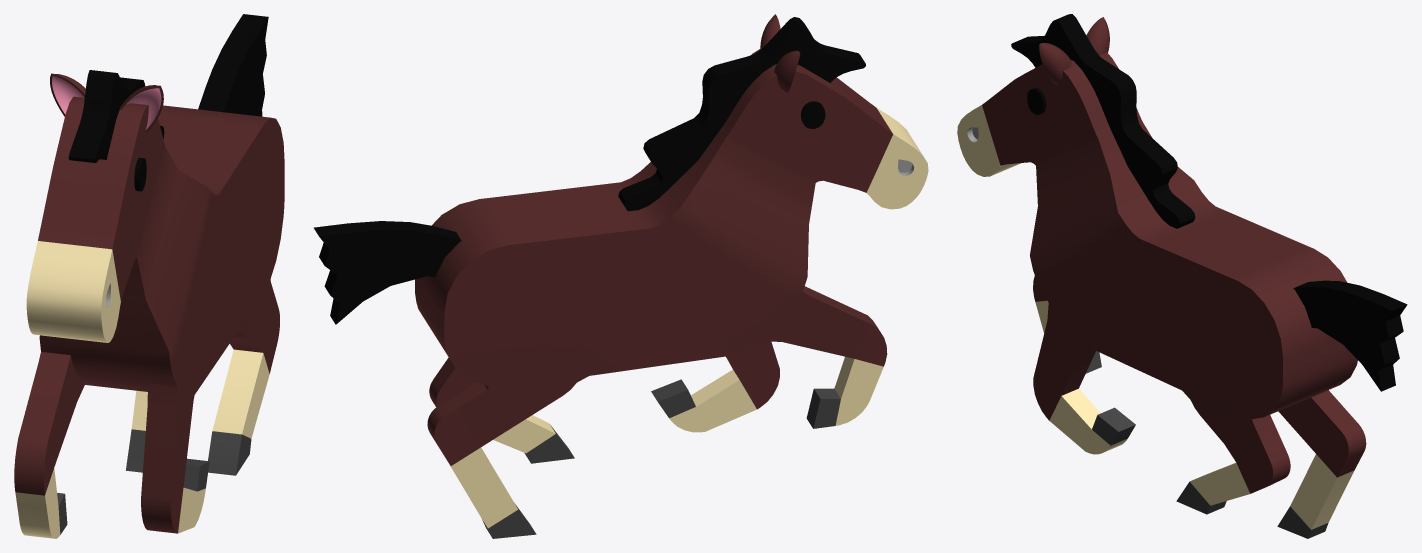
The model's file is horse.glb.
The picture shows the model from 3 angles, left to right: view 1: azimuth 30°, elevation 25°; view 2: azimuth 150°, elevation 25°; view 3: azimuth 270°, elevation 25°; orthographic projection. The views are drawn at different scales.
Visible parts, largest first — view 1: Plane.111, Plane.112, Cube.6211, Cube.6212, Circle.1880; view 2: Plane.111, Cube.6211, Plane.112, Cube.6212; view 3: Plane.111, Cube.6211, Plane.112, Cube.6212.
Part boxes in pixels (bbox=[...]): Plane.111: bbox=[14, 96, 284, 538]; Plane.112: bbox=[198, 14, 268, 116]; Cube.6211: bbox=[68, 70, 164, 162]; Cube.6212: bbox=[50, 73, 163, 132]; Circle.1880: bbox=[134, 157, 146, 191]; Plane.111: bbox=[415, 49, 928, 538]; Cube.6211: bbox=[618, 17, 865, 211]; Plane.112: bbox=[314, 221, 461, 324]; Cube.6212: bbox=[760, 14, 800, 92]; Plane.111: bbox=[957, 52, 1366, 538]; Cube.6211: bbox=[1011, 14, 1195, 228]; Plane.112: bbox=[1293, 280, 1407, 391]; Cube.6212: bbox=[1039, 17, 1109, 84].
Size of the model in its own units: 2.24 by 2.39 by 2.24.
Materials: 1 (1 with a texture image).
